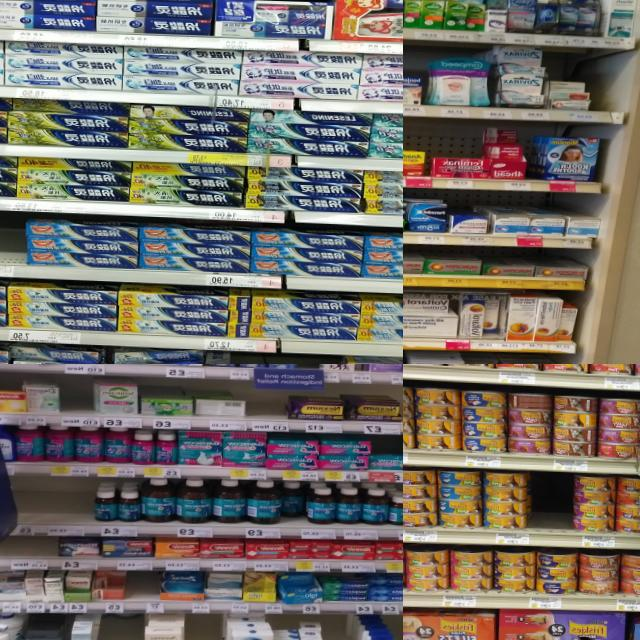100- O.O.S: (42, 476, 95, 536), (531, 472, 570, 546), (248, 388, 285, 432), (8, 536, 54, 570), (60, 375, 90, 426), (0, 212, 23, 275), (590, 61, 613, 122), (17, 476, 39, 535), (126, 571, 156, 613), (99, 617, 143, 640), (183, 615, 222, 640), (321, 617, 350, 640), (72, 364, 106, 374)
